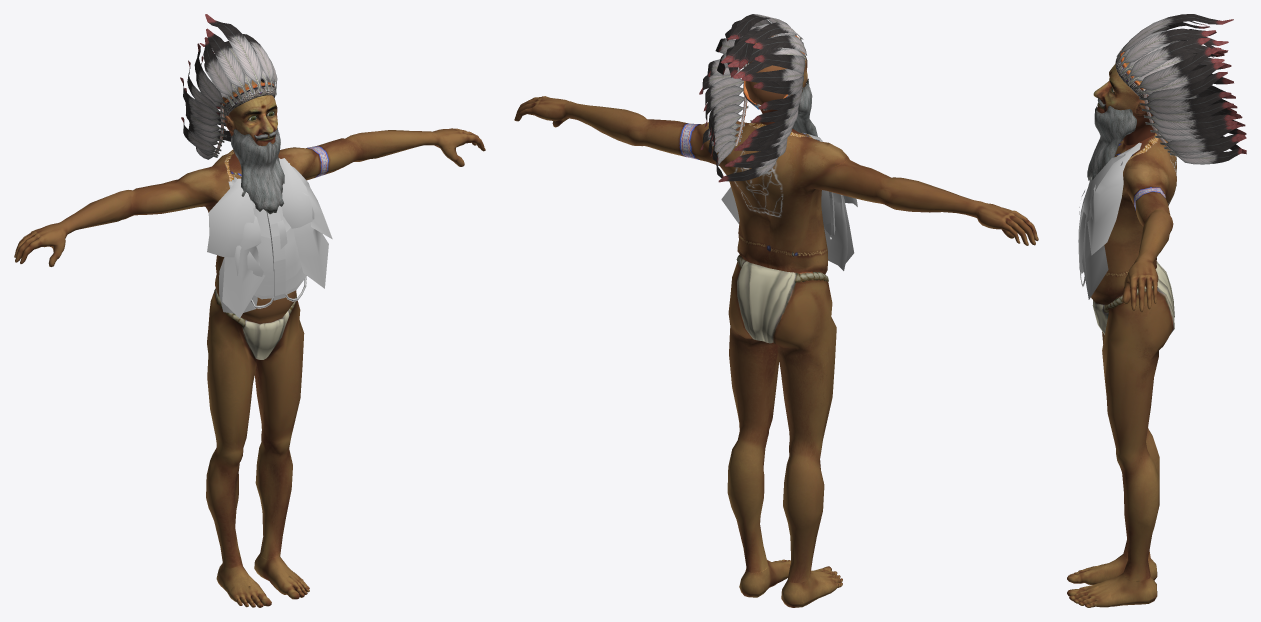
Rendered from CHIEF.FBX.
3 views of the same model, side by side, from view 1: azimuth 30°, elevation 25°; view 2: azimuth 150°, elevation 25°; view 3: azimuth 270°, elevation 25° (orthographic). The views are drawn at different scales.
Parts seen in each view (by area): view 1: Chief_Body01, Chief_breastPlate01, Chief_headDress01, Chief_beard01, Chief_head01; view 2: Chief_Body01, Chief_headDress01, Chief_breastPlate01, Chief_head01, Chief_beard01; view 3: Chief_Body01, Chief_headDress01, Chief_breastPlate01, Chief_beard01, Chief_head01.
Part boxes in pixels (x1,y1,x2,y2): Chief_Body01: [14, 128, 485, 607]; Chief_breastPlate01: [207, 158, 332, 318]; Chief_headDress01: [180, 14, 277, 159]; Chief_beard01: [231, 128, 284, 214]; Chief_head01: [221, 80, 277, 145]; Chief_Body01: [514, 96, 1038, 607]; Chief_headDress01: [699, 14, 806, 182]; Chief_breastPlate01: [721, 120, 857, 270]; Chief_head01: [745, 51, 807, 124]; Chief_beard01: [792, 78, 817, 136]; Chief_Body01: [1067, 133, 1176, 607]; Chief_headDress01: [1115, 14, 1246, 164]; Chief_breastPlate01: [1078, 142, 1141, 299]; Chief_beard01: [1087, 98, 1136, 180]; Chief_head01: [1093, 57, 1155, 145].
Bounding box in the file's own units: 62.44 × 19.42 × 68.38.
